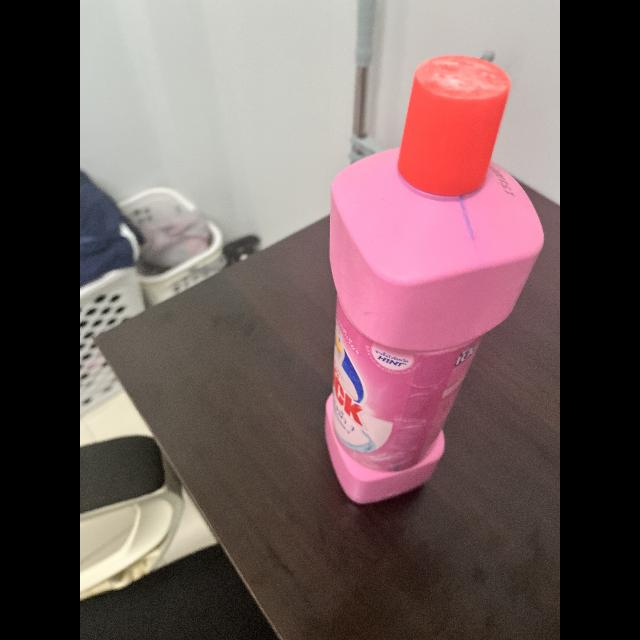chemical_plastic_bottle: (316, 51, 548, 512)
